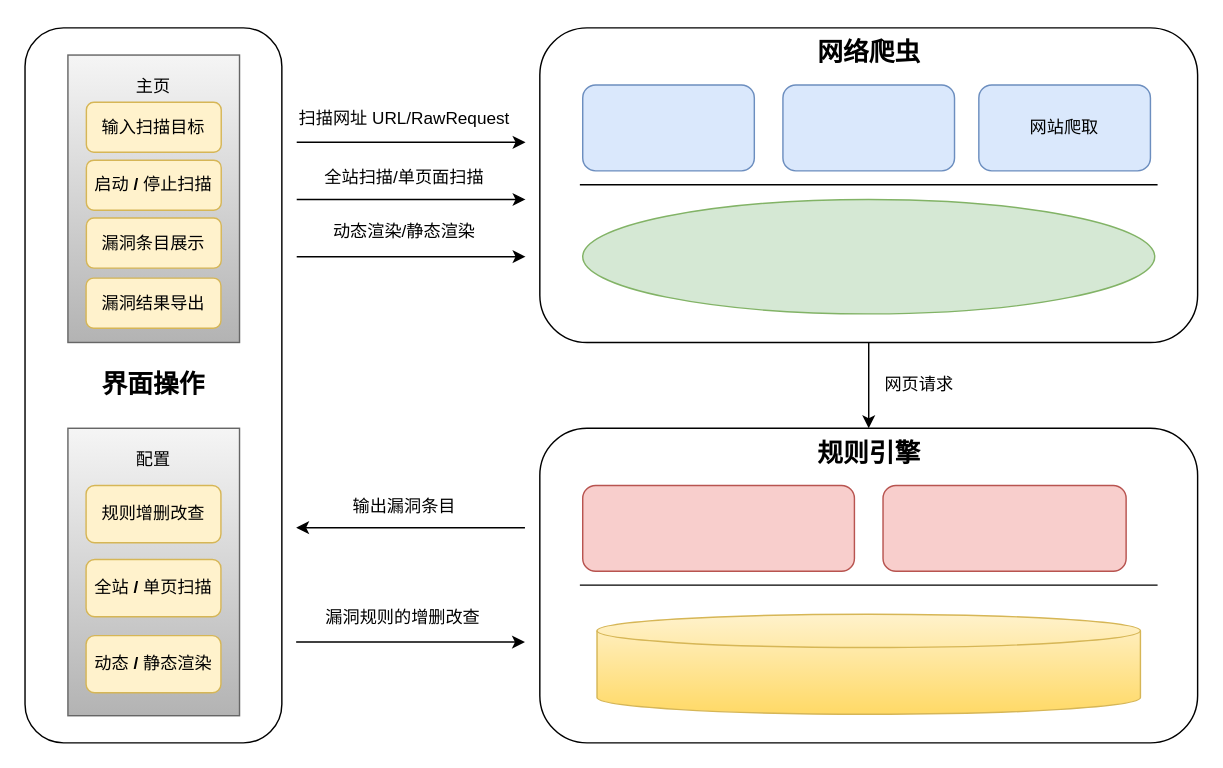
Some shapes in this 1223 by 768 pixel diagram are drawn without their labels. The shapes that lost their labels are listed below. From the top down, each one's centre as x and y in pixels, then its label:
(667,127): 网络请求
(868,127): 响应解析
(868,256): 网页请求体集合
(717,527): 规则应用
(1004,527): 漏洞规则增删改查
(868,663): 漏洞信息库
